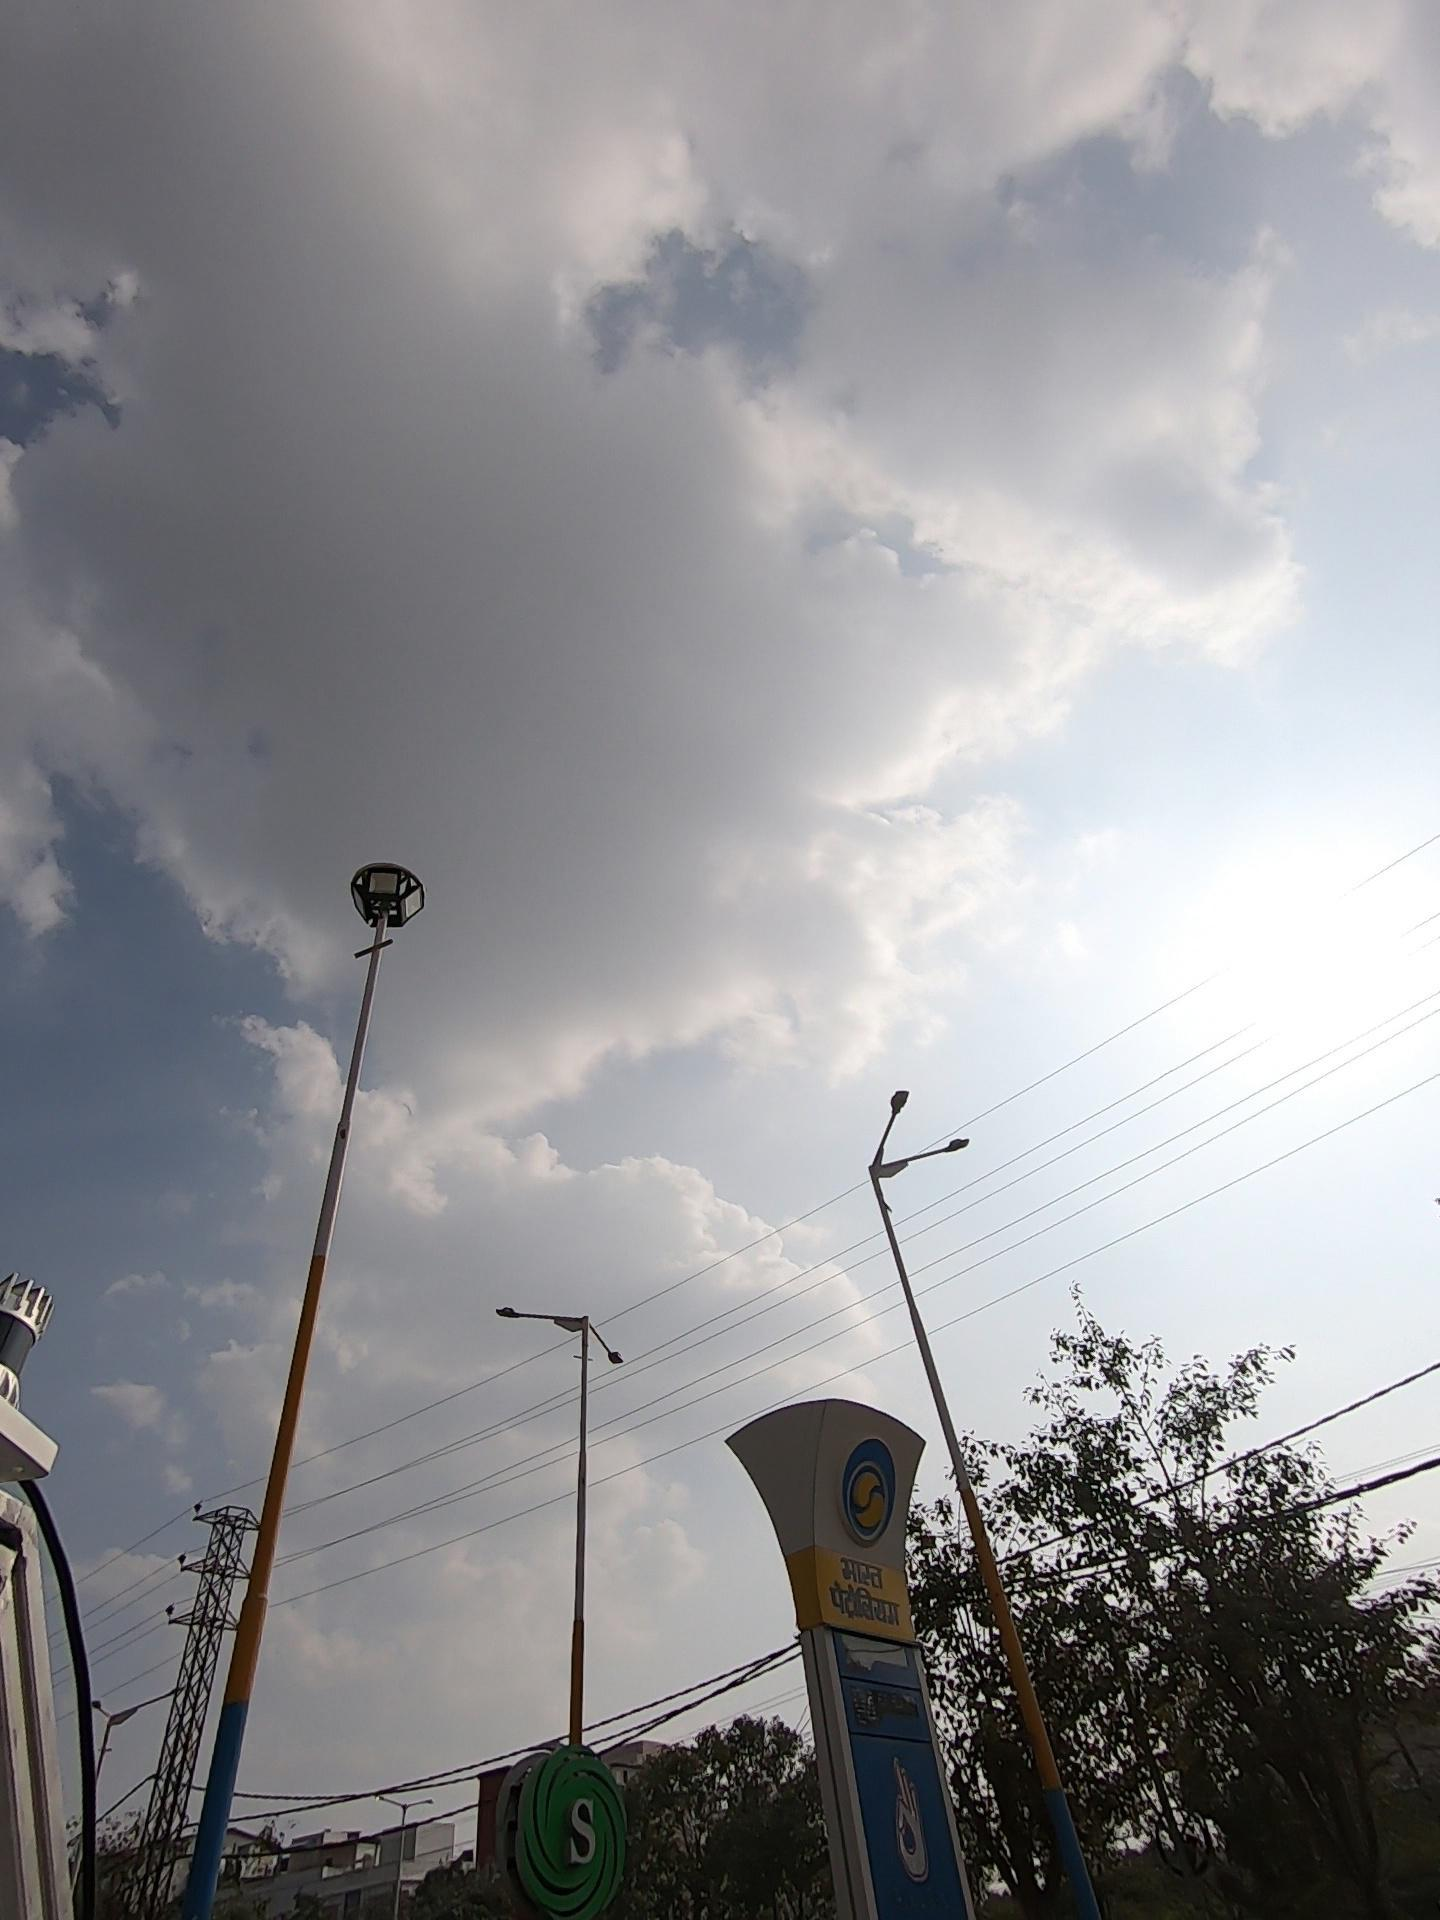off: (740, 1042, 1027, 1235), (340, 801, 560, 1028), (479, 1222, 672, 1395)
